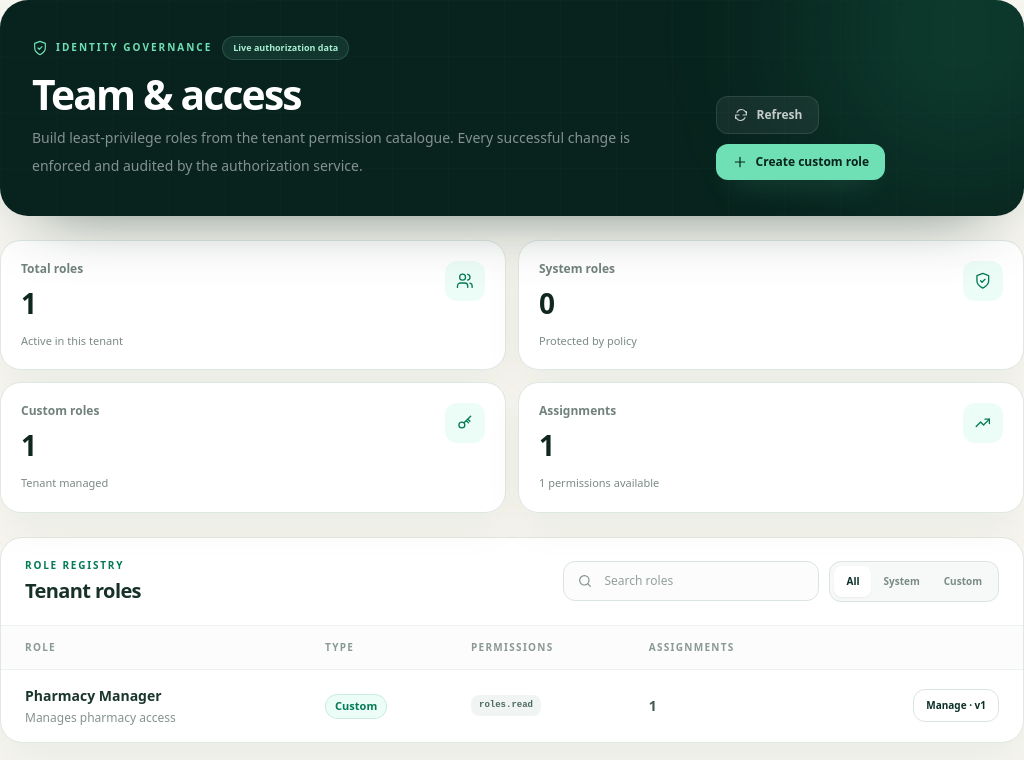
Scenario: TeamAccessWorkspace permission-aware interactions › shows only the authorized role lifecycle actions
Click the button "Create custom role" at (800, 162), box [716,144,885,180]
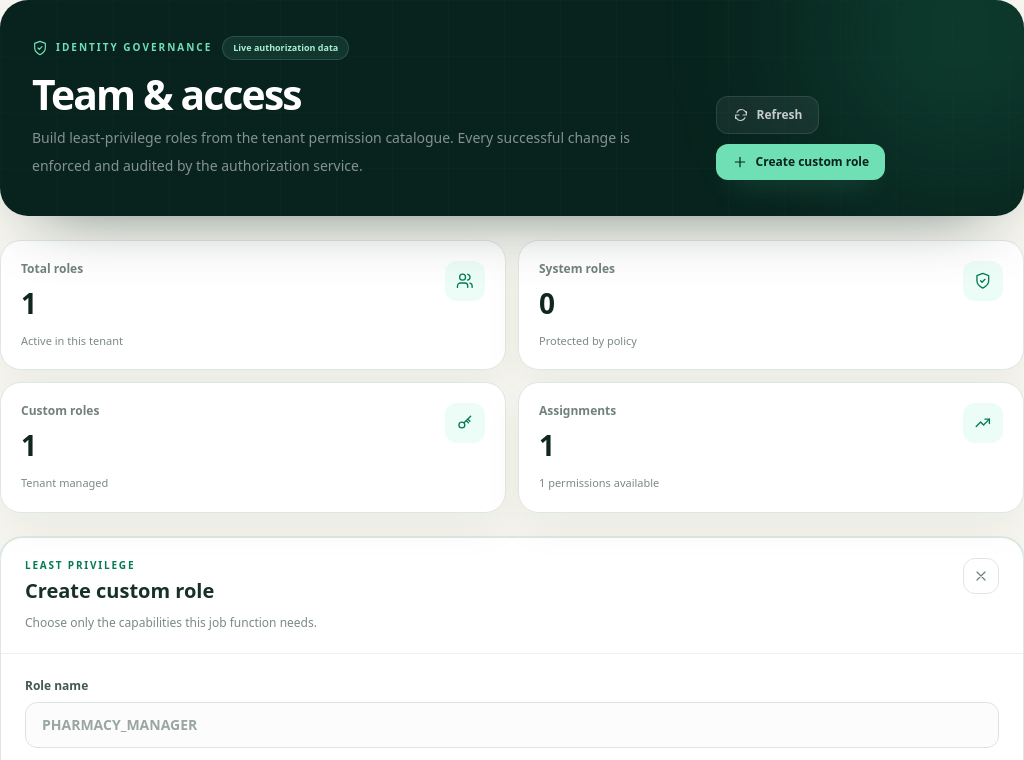
Now the heading "Create custom role" is shown, box [25,576,214,604]
Click the button named "Close role form" at (981, 576), box [963,558,999,594]
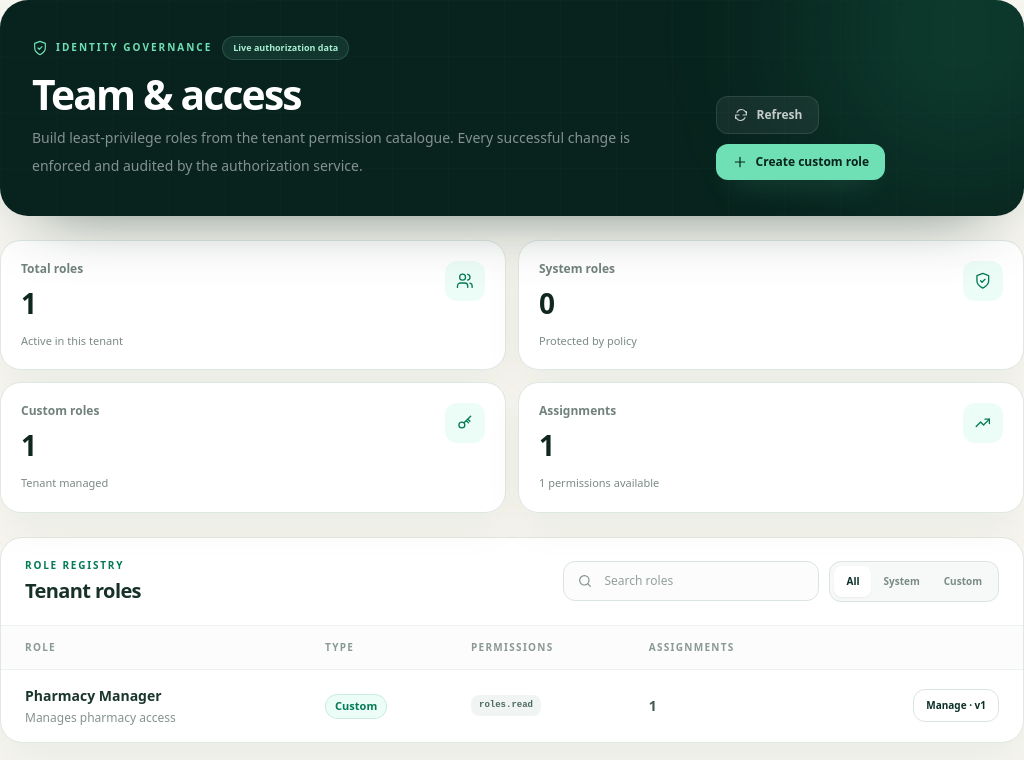
Click the button "Manage · v1" at (956, 706), box [913,689,999,722]
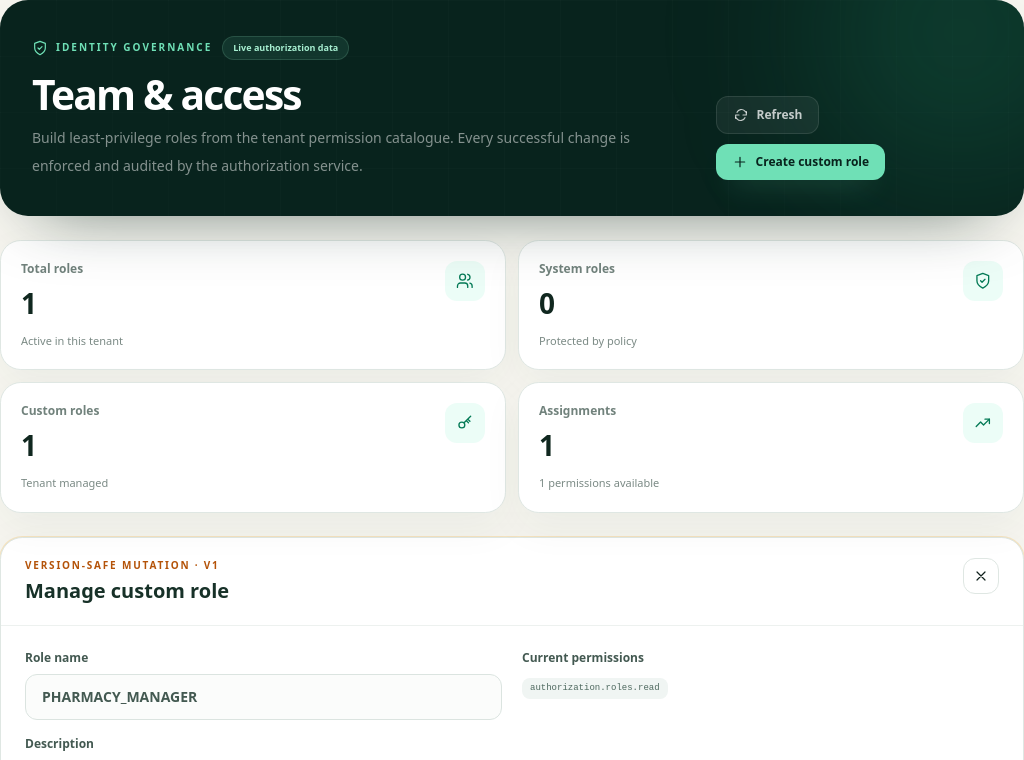
Now the field labelled "Role name" is disabled, box [25,674,502,720]
